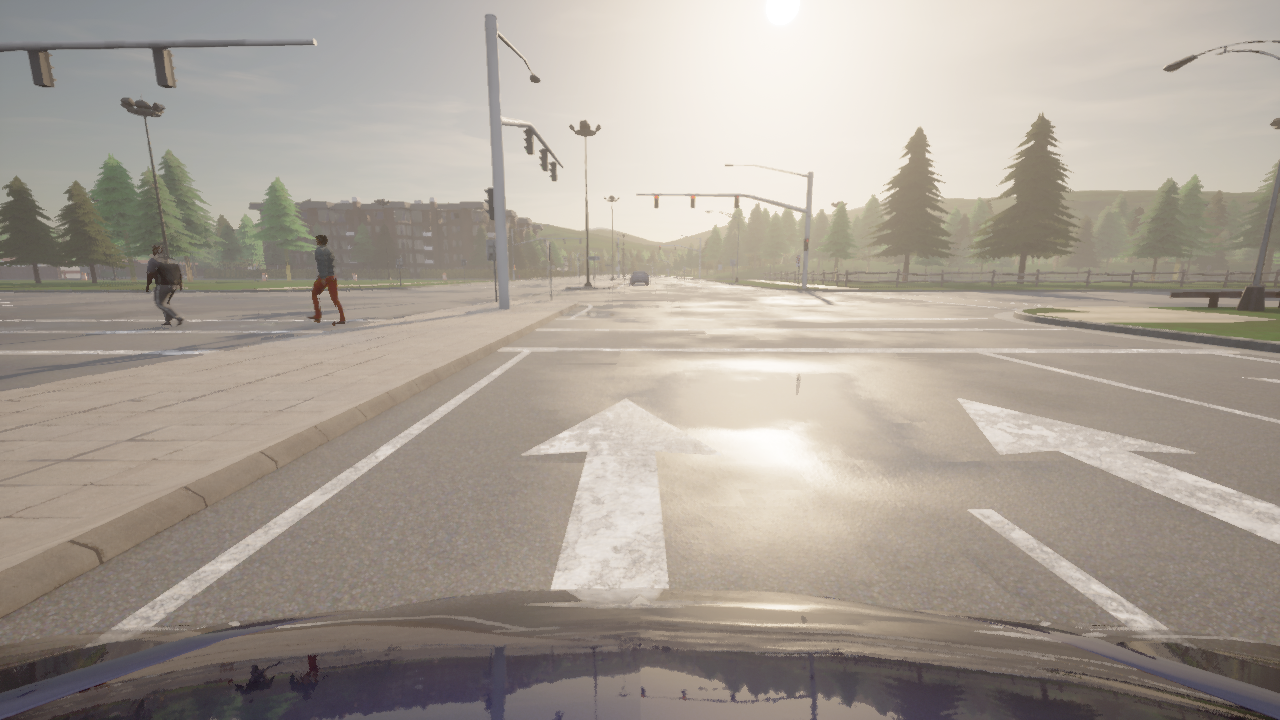cyclist: (0, 588, 1279, 719), (631, 271, 648, 284)
pedestrian: (307, 234, 346, 324), (145, 244, 184, 326)
